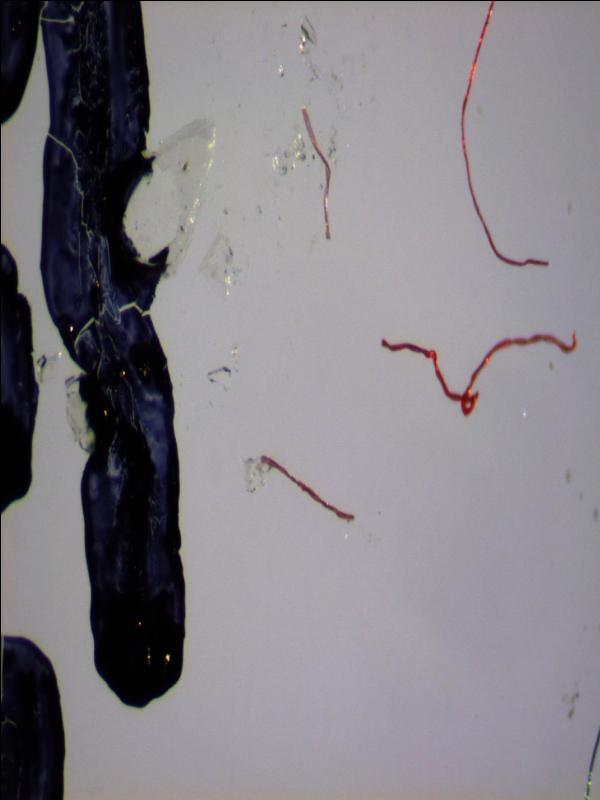microplastic: (36, 3, 213, 711)
